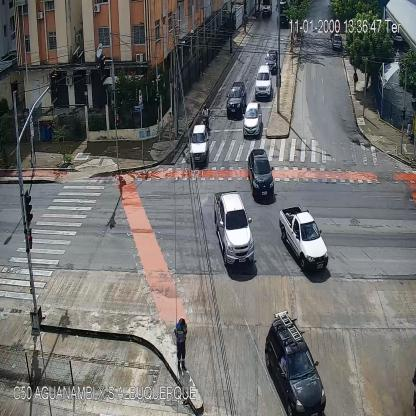car: (265, 316, 326, 415), (279, 206, 328, 270), (213, 192, 254, 264), (249, 150, 274, 197), (226, 81, 245, 119), (190, 125, 208, 163), (243, 101, 262, 136), (255, 64, 271, 98), (265, 50, 278, 71), (260, 0, 272, 19), (333, 34, 341, 50)
motorbike: (201, 104, 210, 129)
person: (175, 317, 187, 375), (168, 112, 173, 142), (352, 69, 358, 92)
truck: (276, 0, 291, 28)
